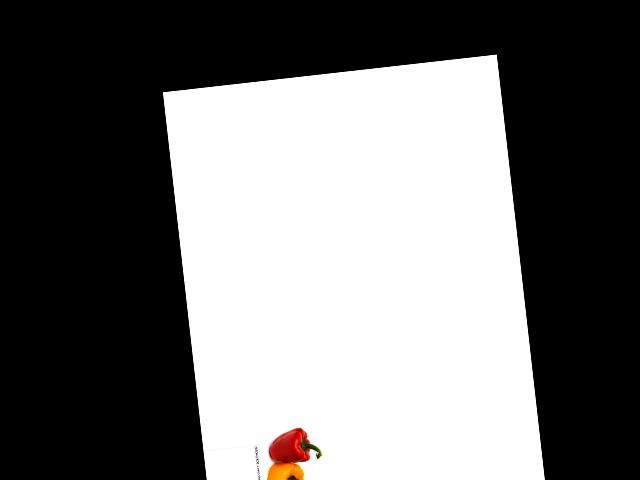bell_pepper: (261, 458, 310, 480)
